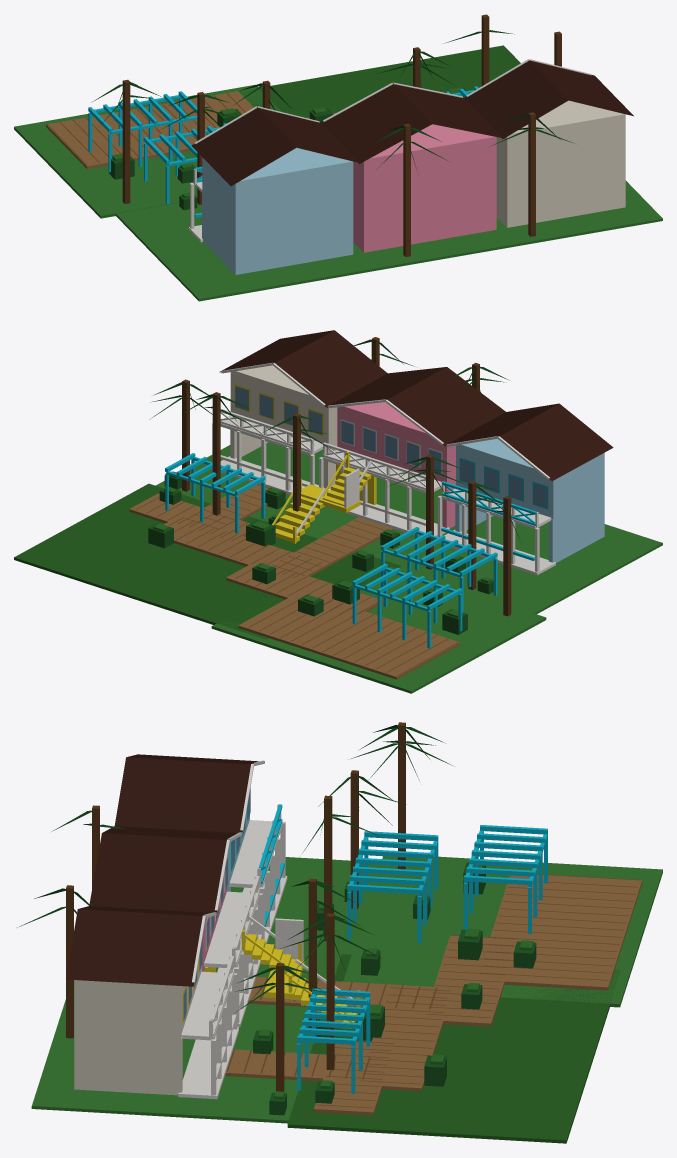
The model's file is boardwalk.glb.
3 views of the same model, one above another, from view 1: azimuth 30°, elevation 25°; view 2: azimuth 150°, elevation 25°; view 3: azimuth 270°, elevation 25° (orthographic). The views are drawn at different scales.
Visible parts, largest first — view 1: boardwalk_lod0; view 2: boardwalk_lod0; view 3: boardwalk_lod0.
Boxes of the visible parts, x1=… form: boardwalk_lod0: x1=14, y1=14, x2=662, y2=301; boardwalk_lod0: x1=14, y1=330, x2=662, y2=693; boardwalk_lod0: x1=17, y1=722, x2=662, y2=1143.
Size of what is drawn, in the model's own units: 34.54 by 8.98 by 32.27.
